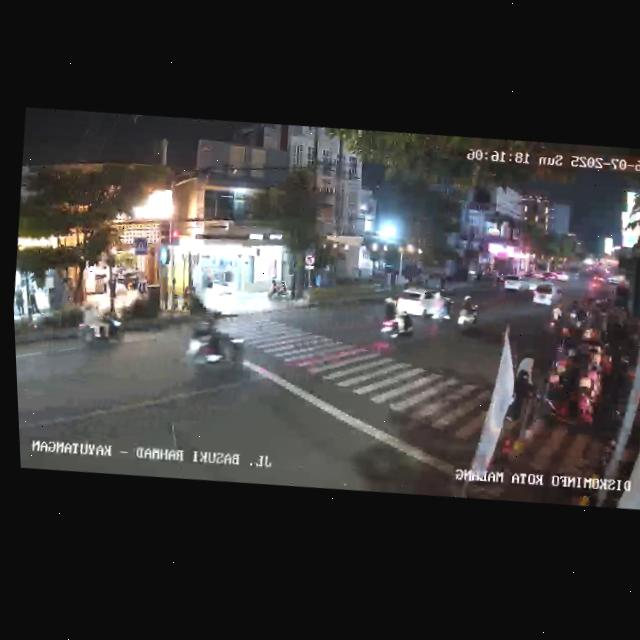car: (393, 284, 446, 324), (530, 280, 564, 309), (502, 273, 531, 294), (540, 271, 557, 282), (556, 269, 568, 282)
motorcycle: (180, 315, 247, 381), (74, 298, 125, 353), (376, 295, 417, 346), (454, 294, 481, 335), (428, 292, 455, 326), (545, 302, 565, 336)
person: (500, 354, 545, 443), (26, 284, 46, 316), (13, 285, 27, 317), (265, 279, 278, 303), (275, 279, 288, 300)
